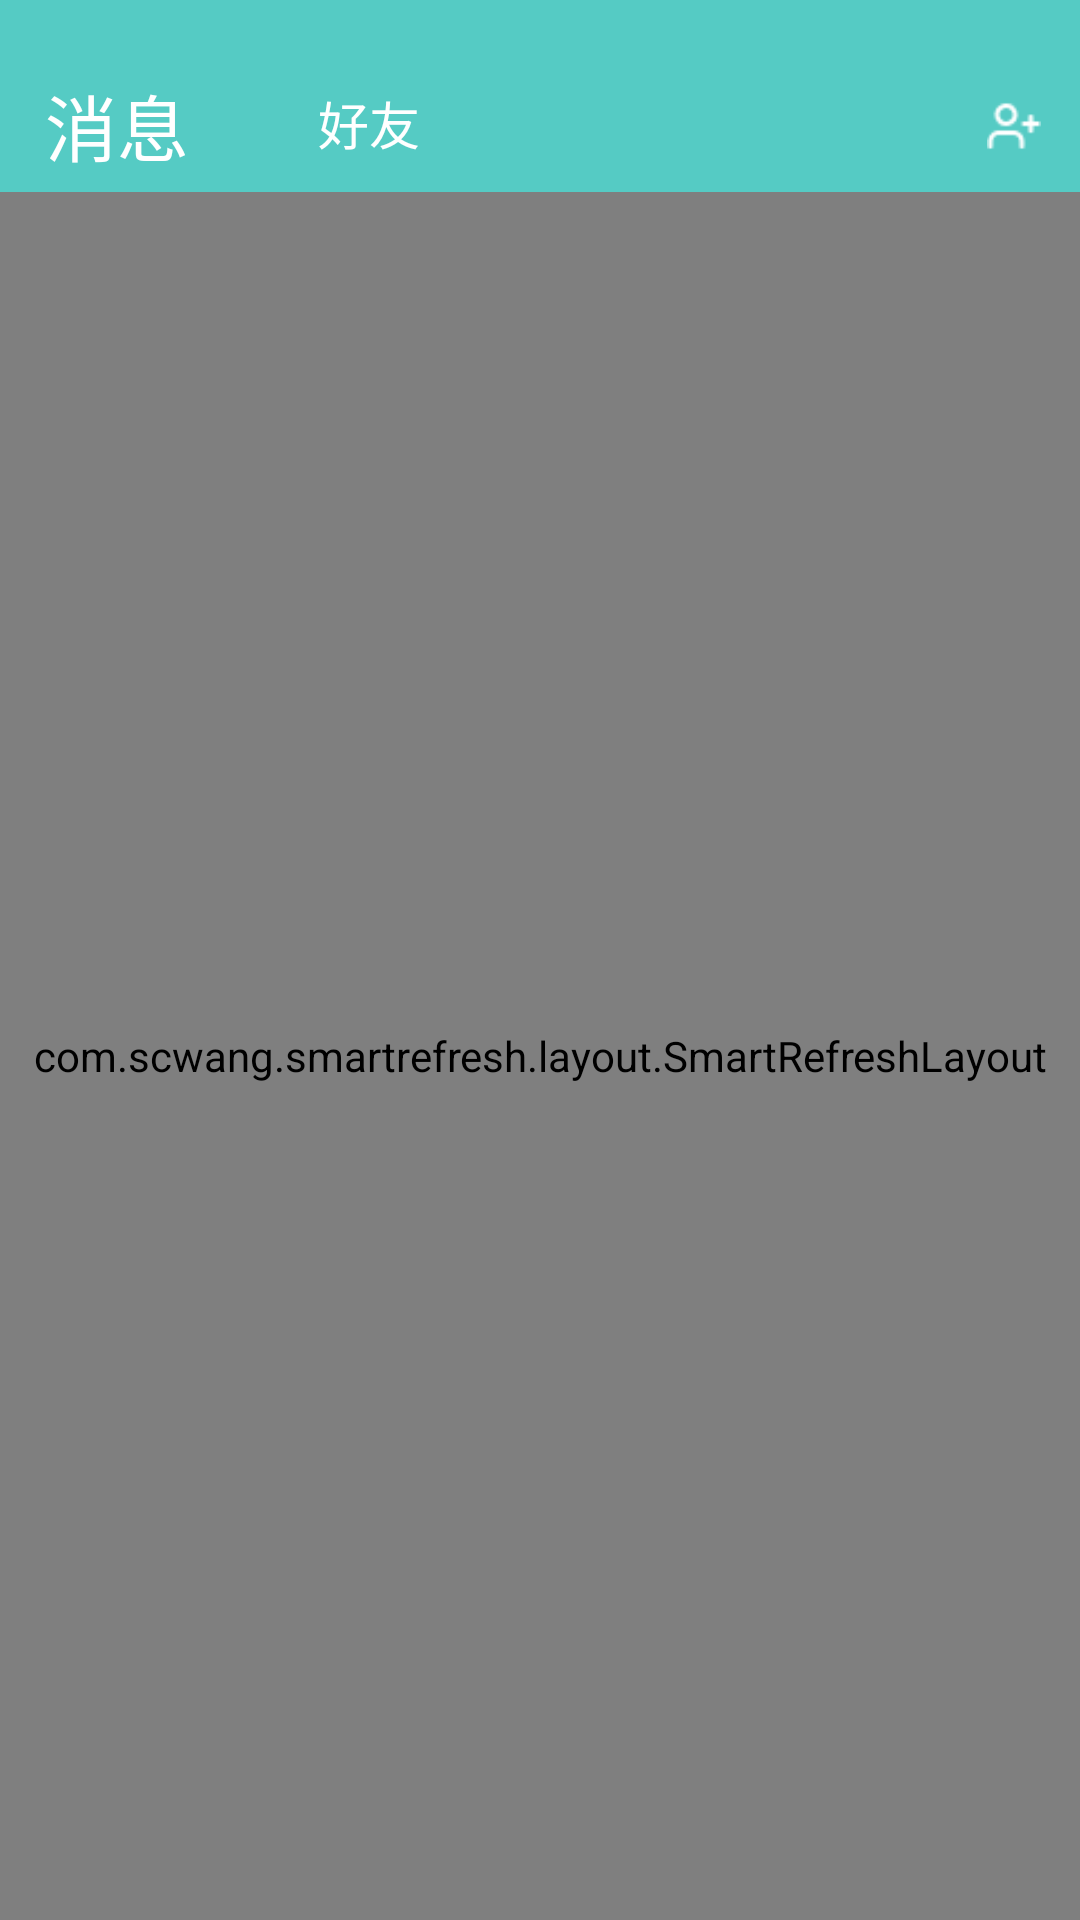

Icon click points for this 1080×1920 phone screenshot, format (x,y):
src msg addfriends: (1014,126)
